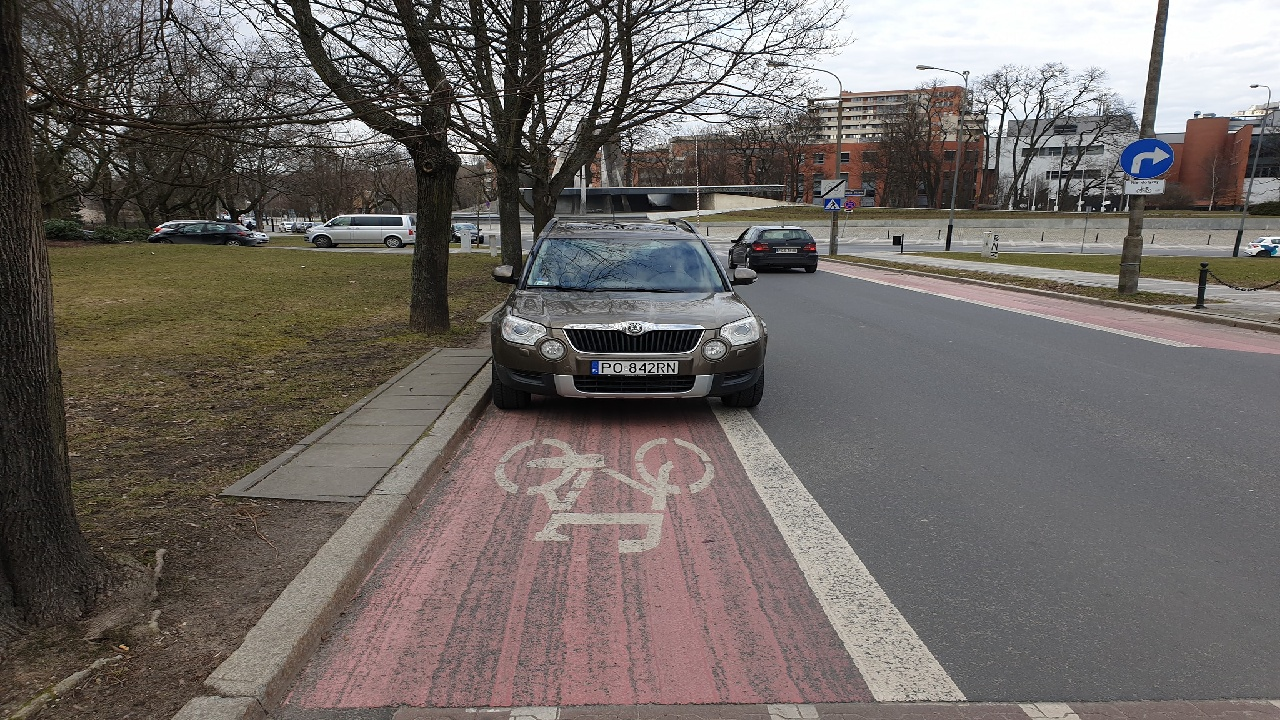C2: (1119, 138, 1174, 178)
